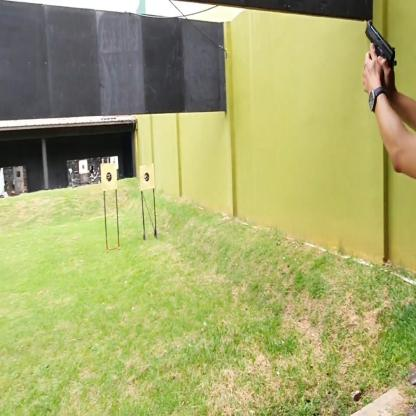handgun: (364, 17, 397, 68)
